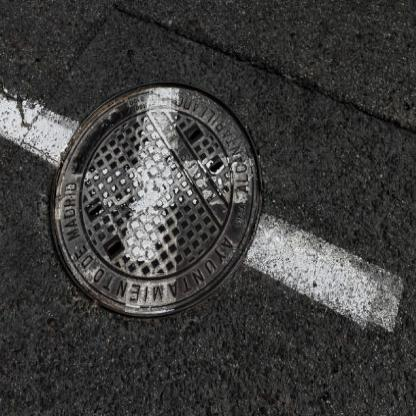manholes: (36, 61, 276, 344)
